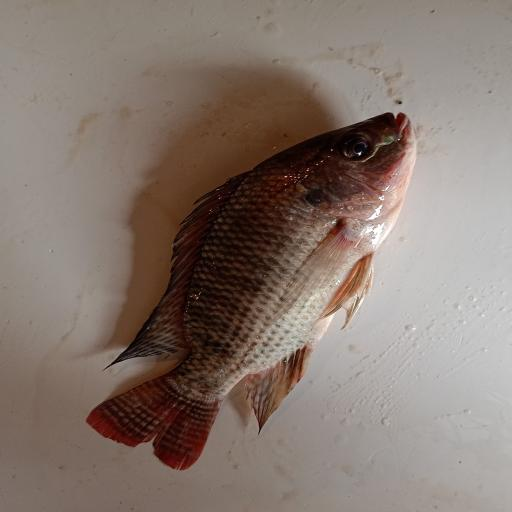Tilapia: (85, 112, 418, 472)
